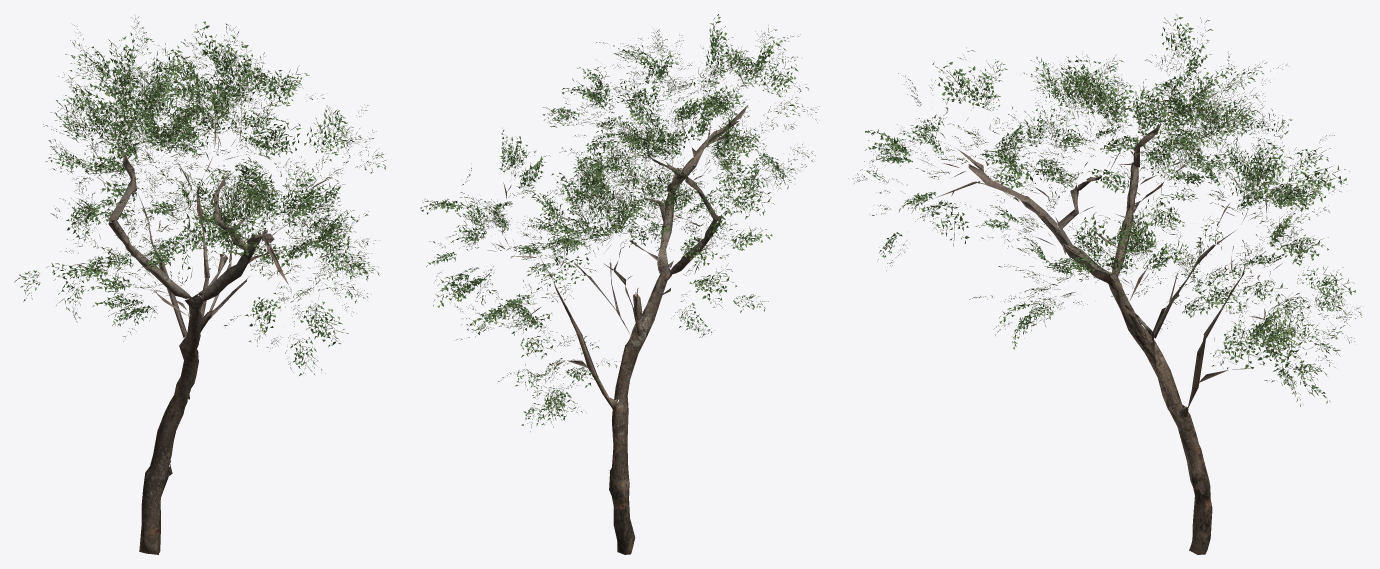
File: tree_small_02.glb
3 views of the same model, side by side, from view 1: azimuth 30°, elevation 25°; view 2: azimuth 150°, elevation 25°; view 3: azimuth 270°, elevation 25° (orthographic). The views are drawn at different scales.
Parts seen in each view (by area): view 1: tree_small_02_LOD0; view 2: tree_small_02_LOD0; view 3: tree_small_02_LOD0.
Boxes of the visible parts, x1,y1,x2,y2 form: tree_small_02_LOD0: (14, 17, 386, 554); tree_small_02_LOD0: (420, 14, 819, 554); tree_small_02_LOD0: (852, 14, 1363, 554).
Size of the model in its own units: 3.4 by 5.37 by 5.04.
3 materials, 3 textured.
